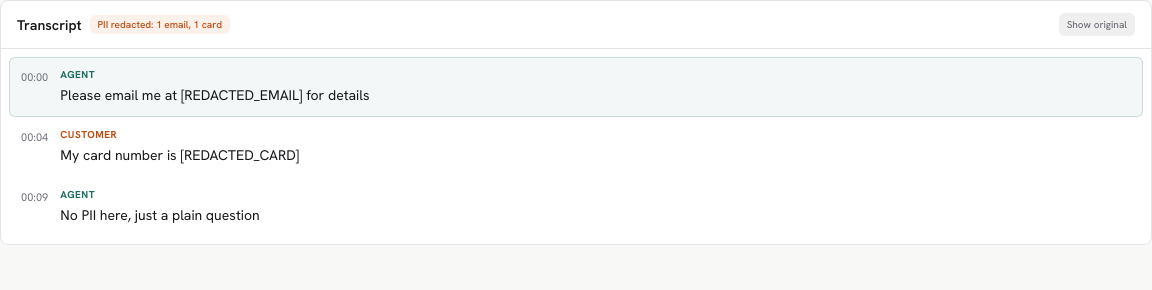
Test case: TranscriptPanel — redaction › toggling back re-redacts
Click the button with test id "redaction-toggle" at (1097, 24), box [1059,13,1135,36]
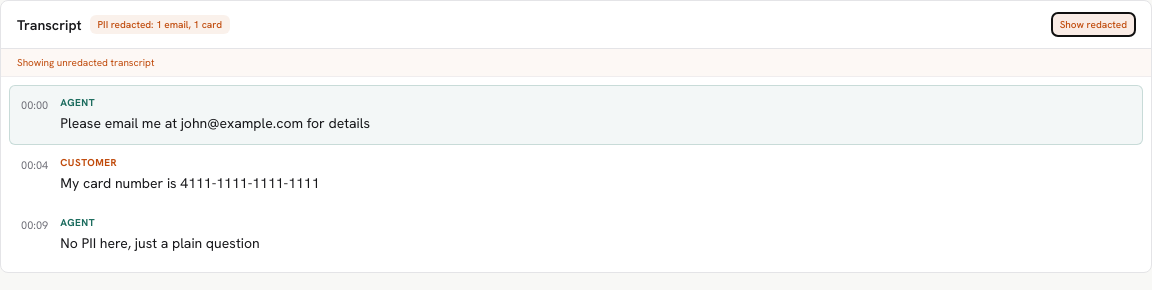
Click the button with test id "redaction-toggle" at (1093, 24), box [1052,13,1135,36]
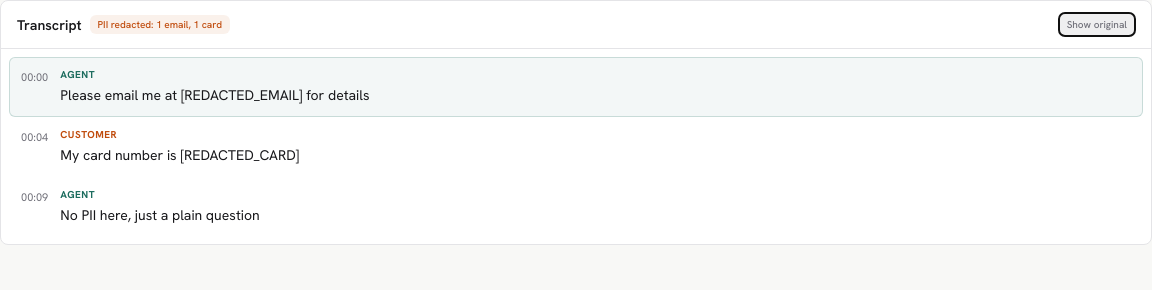
Expected: the text with test id "segment-text" shows "[REDACTED_EMAIL]", [60,86,370,104]
Now the button with test id "segment-text" no longer shows "john@example.com"
Now the element with test id "original-notice" is gone
